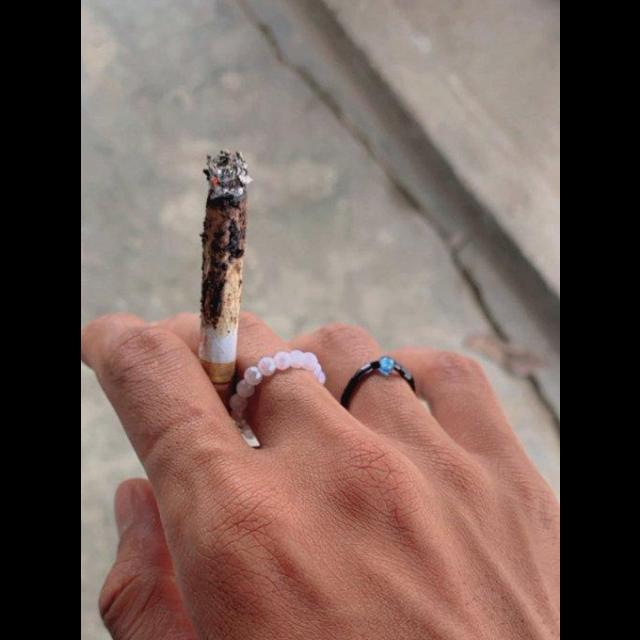rokok: (192, 140, 258, 410)
